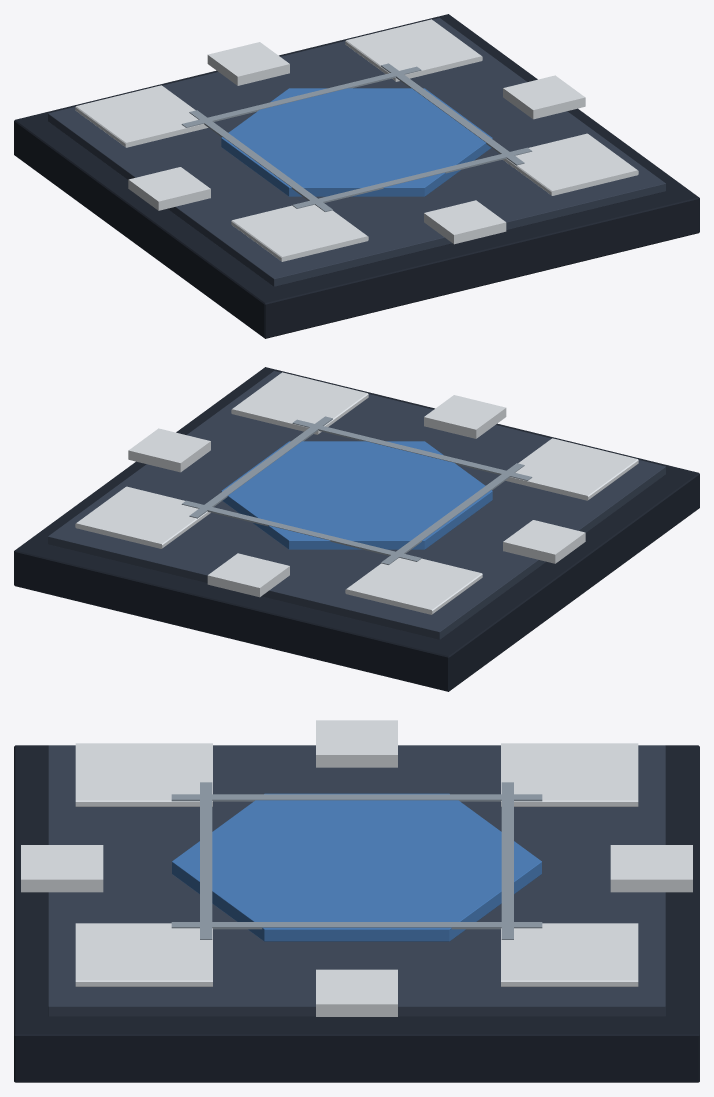
File: floor_module__intact.glb
3 views of the same model, one above another, from view 1: azimuth 30°, elevation 25°; view 2: azimuth 150°, elevation 25°; view 3: azimuth 270°, elevation 25° (orthographic). The views are drawn at different scales.
Parts seen in each view (by area): view 1: ROLE_primary, ROLE_rubber, ROLE_secondary, ROLE_accent, ROLE_bareMetal; view 2: ROLE_primary, ROLE_rubber, ROLE_secondary, ROLE_accent, ROLE_bareMetal; view 3: ROLE_primary, ROLE_rubber, ROLE_secondary, ROLE_accent, ROLE_bareMetal.
Part boxes in pixels (x1=…): ROLE_primary: x1=48, y1=18, x2=665, y2=286; ROLE_rubber: x1=14, y1=14, x2=699, y2=338; ROLE_secondary: x1=75, y1=19, x2=638, y2=261; ROLE_accent: x1=221, y1=88, x2=492, y2=196; ROLE_bareMetal: x1=181, y1=63, x2=532, y2=211; ROLE_primary: x1=48, y1=371, x2=665, y2=639; ROLE_rubber: x1=14, y1=367, x2=699, y2=691; ROLE_secondary: x1=75, y1=372, x2=638, y2=614; ROLE_accent: x1=221, y1=441, x2=492, y2=549; ROLE_bareMetal: x1=181, y1=416, x2=532, y2=564; ROLE_primary: x1=48, y1=745, x2=665, y2=1016; ROLE_rubber: x1=14, y1=745, x2=699, y2=1082; ROLE_secondary: x1=21, y1=720, x2=692, y2=1016; ROLE_accent: x1=172, y1=793, x2=541, y2=941; ROLE_bareMetal: x1=171, y1=782, x2=542, y2=939.
Bounding box in the file's own units: 4 × 0.5 × 4.
